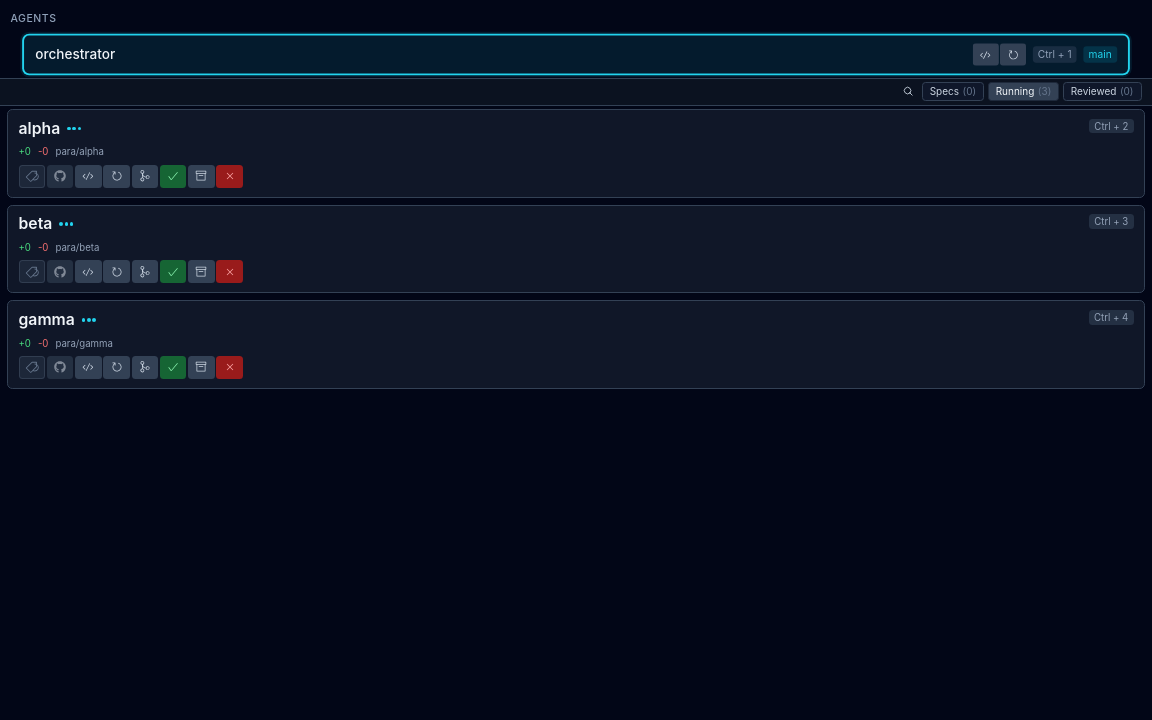
Test: Sidebar filter functionality and persistence › Reviewed session preservation with Running filter › preserves selection when first session moves to reviewed with Running filter active
Expected: the button titled "Show running agents" shows "3", [988,82,1059,101]
Click the button "alpha Ctrl + 2 +0 -0 para/alpha": (39, 128) [7,109,1145,198]
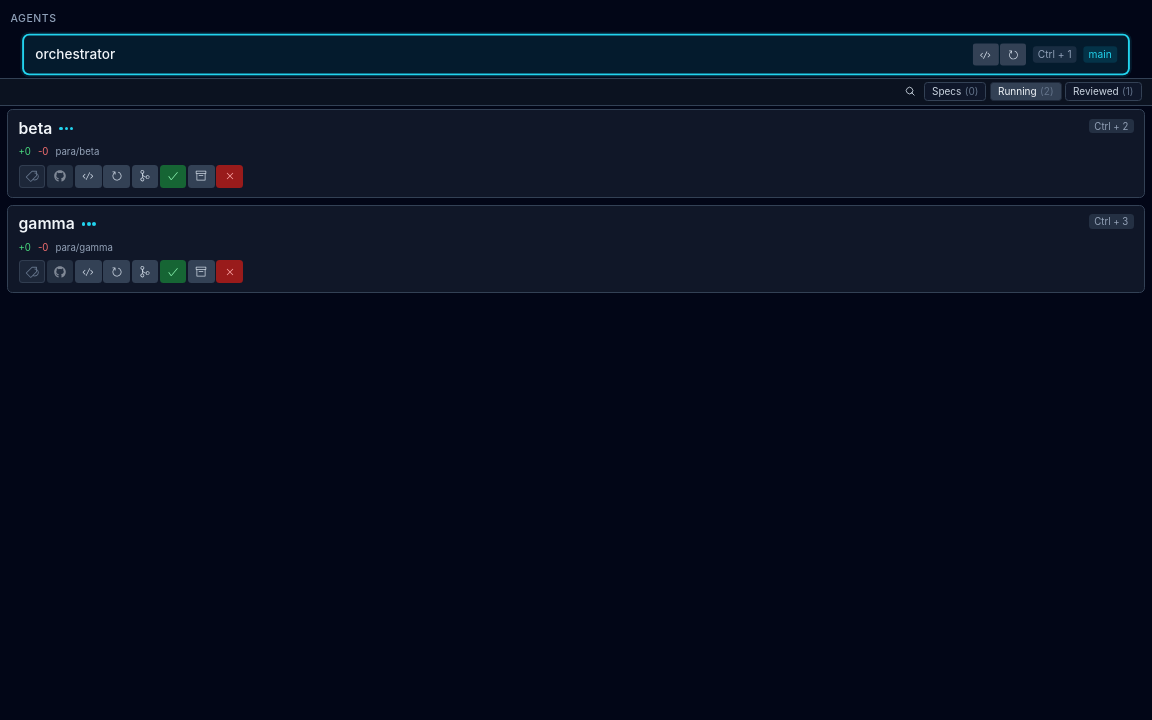
Result: the button titled "Show running agents" shows "2" at [990,82,1062,101]
Result: the button titled "Show reviewed agents" shows "1" at [1065,82,1142,101]
